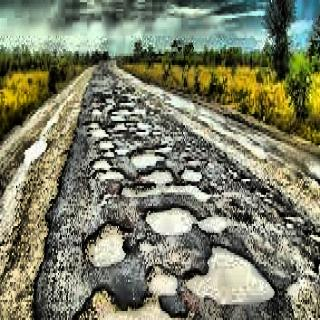pothole: (85, 74, 278, 320)
